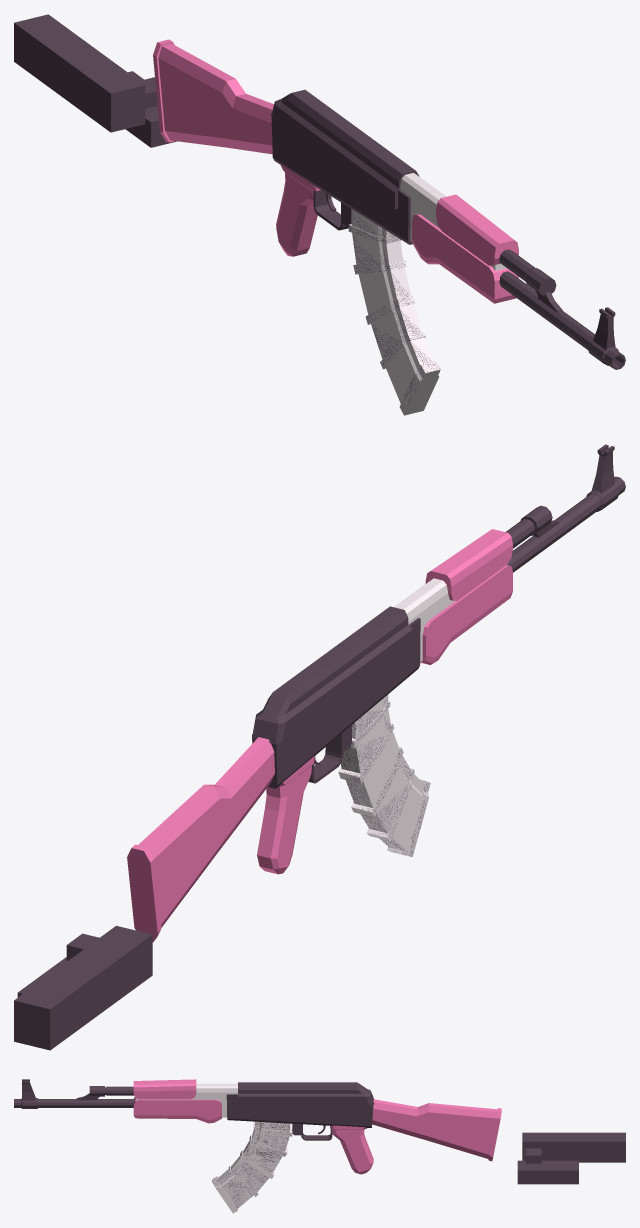
File: AssaultRifle_2.obj
3 views of the same model, one above another, from view 1: azimuth 30°, elevation 25°; view 2: azimuth 150°, elevation 25°; view 3: azimuth 270°, elevation 25° (orthographic). The views are drawn at different scales.
Visible parts, largest first — view 1: Grip, Hardware, Body, Bolt, Mag; view 2: Grip, Hardware, Body, Bolt, Mag; view 3: Hardware, Grip, Body, Bolt, Mag.
Part boxes in pixels (bbox=[...]): Grip: bbox=[153, 39, 518, 303]; Hardware: bbox=[125, 71, 625, 369]; Body: bbox=[348, 173, 506, 415]; Bolt: bbox=[14, 14, 157, 132]; Mag: bbox=[348, 213, 440, 412]; Grip: bbox=[127, 529, 512, 942]; Hardware: bbox=[17, 444, 625, 997]; Body: bbox=[338, 564, 507, 857]; Bolt: bbox=[14, 925, 152, 1050]; Mag: bbox=[339, 695, 428, 856]; Hardware: bbox=[14, 1079, 578, 1184]; Grip: bbox=[133, 1079, 501, 1174]; Body: bbox=[136, 1083, 292, 1213]; Bolt: bbox=[522, 1132, 625, 1163]; Mag: bbox=[212, 1122, 292, 1208].
Size of the model in its own units: 0.5217 by 1.62 by 6.9.
